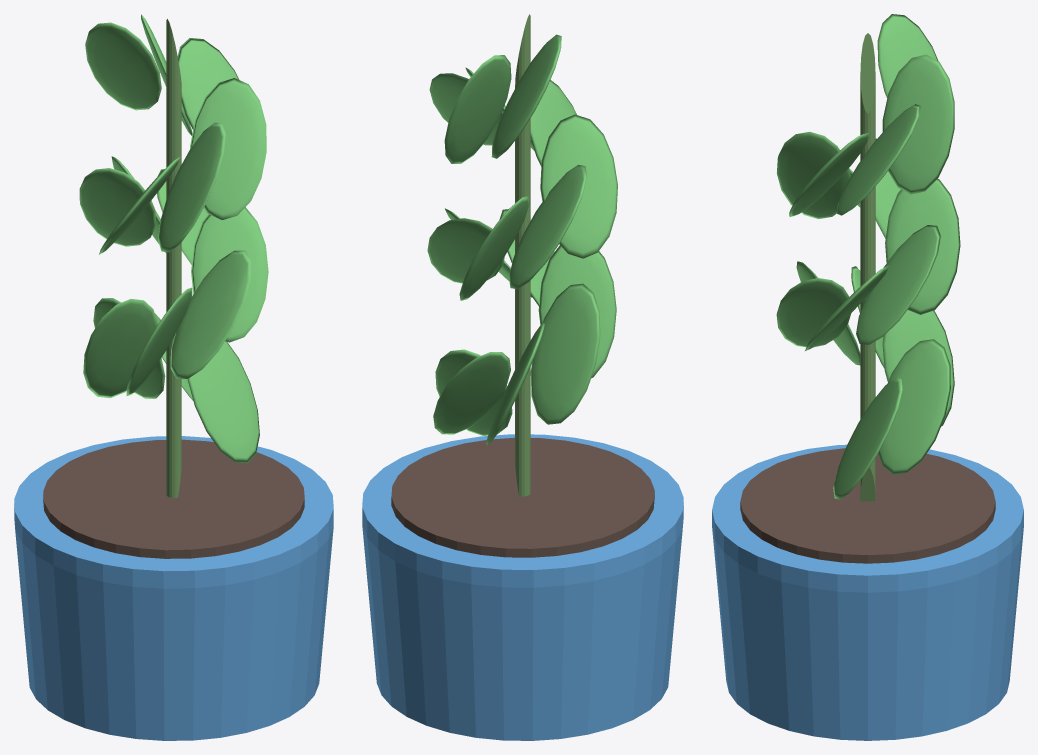
The picture shows the model from 3 angles, left to right: view 1: azimuth 30°, elevation 25°; view 2: azimuth 150°, elevation 25°; view 3: azimuth 270°, elevation 25°; orthographic projection. The views are drawn at different scales.
Parts seen in each view (by area): view 1: Pot_Complete, Leaves, Soil, Stem; view 2: Pot_Complete, Leaves, Soil, Stem; view 3: Pot_Complete, Leaves, Soil, Stem.
Boxes of the visible parts, x1,y1,x2,y2 form: Pot_Complete: (14, 436, 333, 740); Leaves: (79, 14, 268, 463); Soil: (43, 439, 304, 558); Stem: (166, 19, 181, 497); Pot_Complete: (362, 434, 683, 740); Leaves: (427, 34, 617, 445); Soil: (391, 437, 654, 557); Stem: (515, 14, 530, 496); Pot_Complete: (712, 444, 1023, 740); Leaves: (776, 14, 960, 499); Soil: (740, 448, 995, 563); Stem: (860, 33, 875, 501).
Bounding box in the file's own units: 0.33 × 0.7533 × 0.33.
